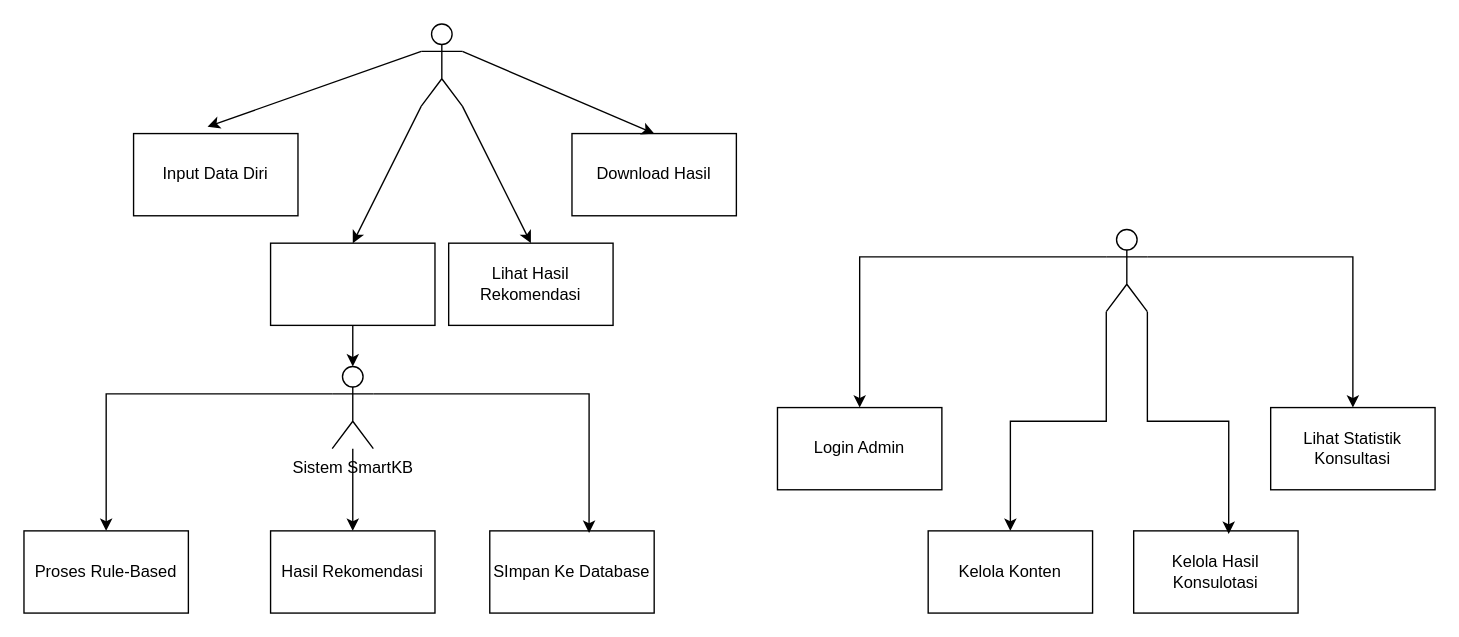
Image size: 1459x637. Some labels were removed from this diagram. Each missing label, with the centre of its shape:
"Admin/Petugas" goes at point 1126,270.
"Konsultasi KB" goes at point 352,283.
"Masyarakat" goes at point 441,64.
